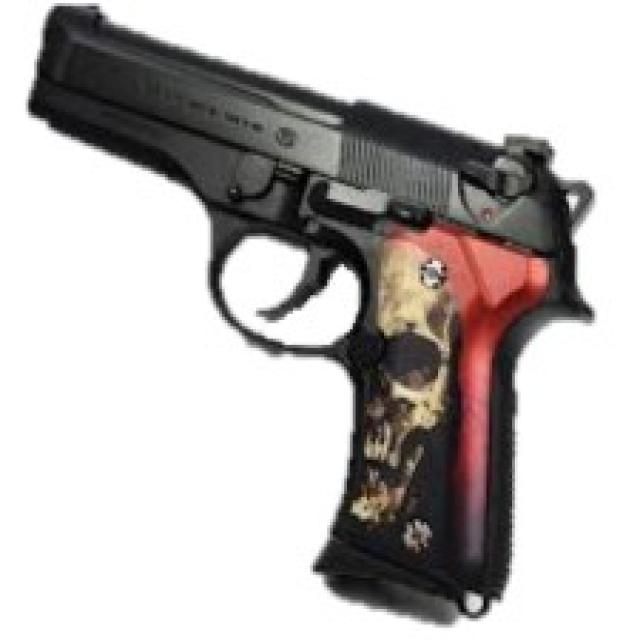pistol: (18, 1, 610, 629)
